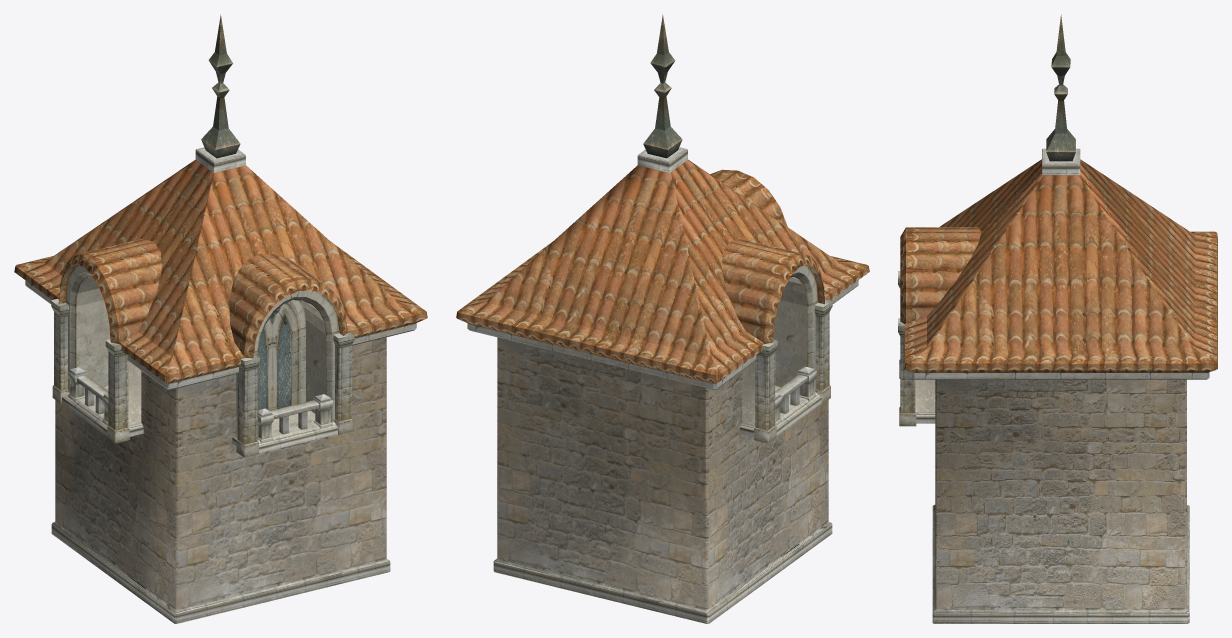
Rendered from bg_atm_aborder_abbeymain03_sm_jjy.FBX.
3 views of the same model, side by side, from view 1: azimuth 30°, elevation 25°; view 2: azimuth 150°, elevation 25°; view 3: azimuth 270°, elevation 25° (orthographic). The views are drawn at different scales.
Parts seen in each view (by area): view 1: bg_atm_aborder_abbeymain03_sm_jjy; view 2: bg_atm_aborder_abbeymain03_sm_jjy; view 3: bg_atm_aborder_abbeymain03_sm_jjy.
Boxes of the visible parts, x1,y1,x2,y2 form: bg_atm_aborder_abbeymain03_sm_jjy: (14, 14, 427, 623); bg_atm_aborder_abbeymain03_sm_jjy: (456, 14, 869, 623); bg_atm_aborder_abbeymain03_sm_jjy: (898, 14, 1217, 623).
Size of the model in its own units: 277 by 529 by 276.
